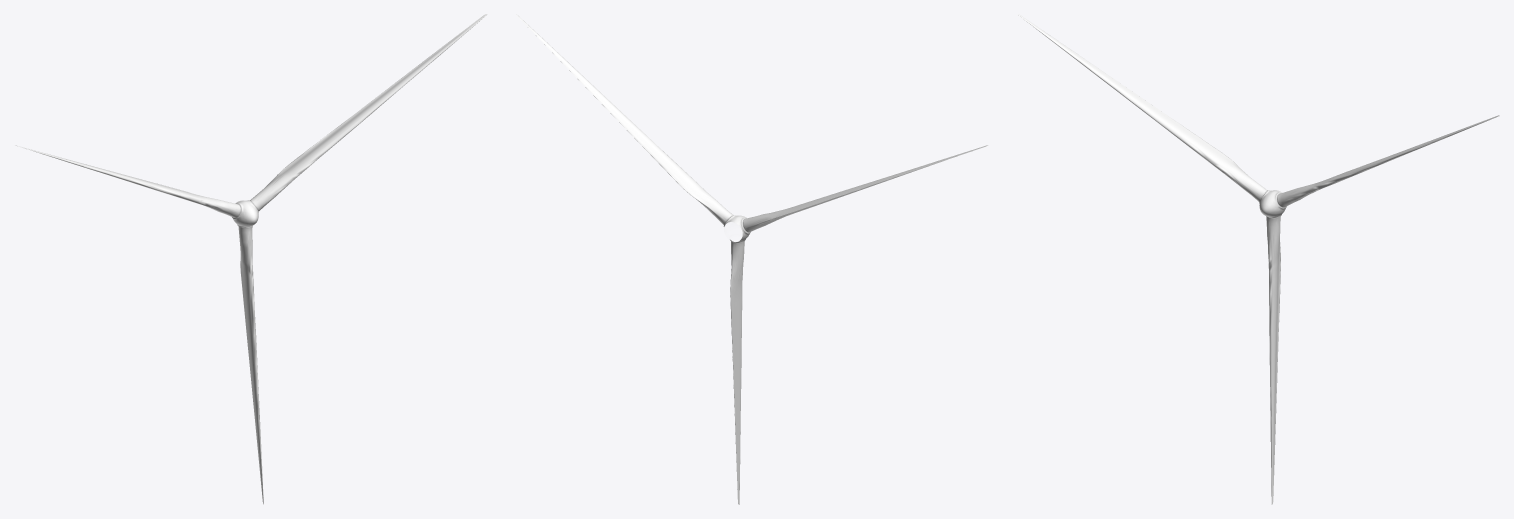
Rendered from Blades.glb.
3 views of the same model, side by side, from view 1: azimuth 30°, elevation 25°; view 2: azimuth 150°, elevation 25°; view 3: azimuth 330°, elevation 25° (orthographic). The views are drawn at different scales.
Parts seen in each view (by area): view 1: MatChangeGroup12_HubCover; view 2: MatChangeGroup12_HubCover; view 3: MatChangeGroup12_HubCover.
Boxes of the visible parts, box(x1,y1,x2,y2) form: MatChangeGroup12_HubCover: box(15, 14, 487, 504); MatChangeGroup12_HubCover: box(516, 14, 988, 504); MatChangeGroup12_HubCover: box(1017, 14, 1499, 504).
Bounding box in the file's own units: 97.7 × 86.15 × 5.89.
Materials: 2 (1 with a texture image).
